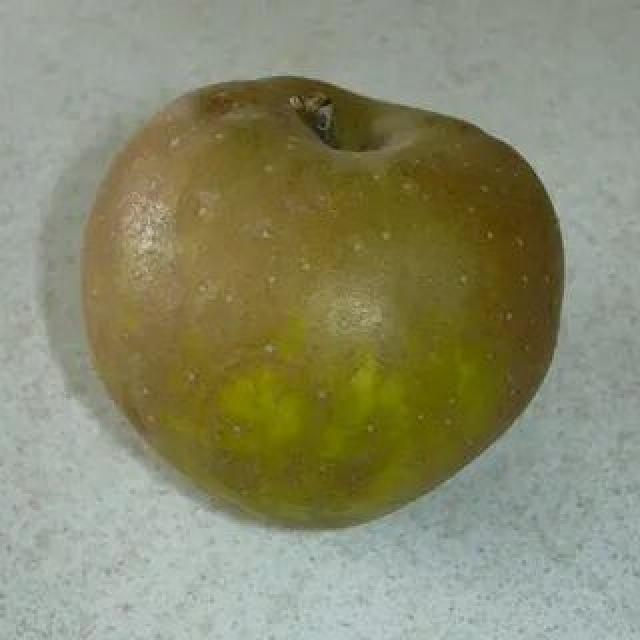Rotten: (90, 78, 548, 544)
